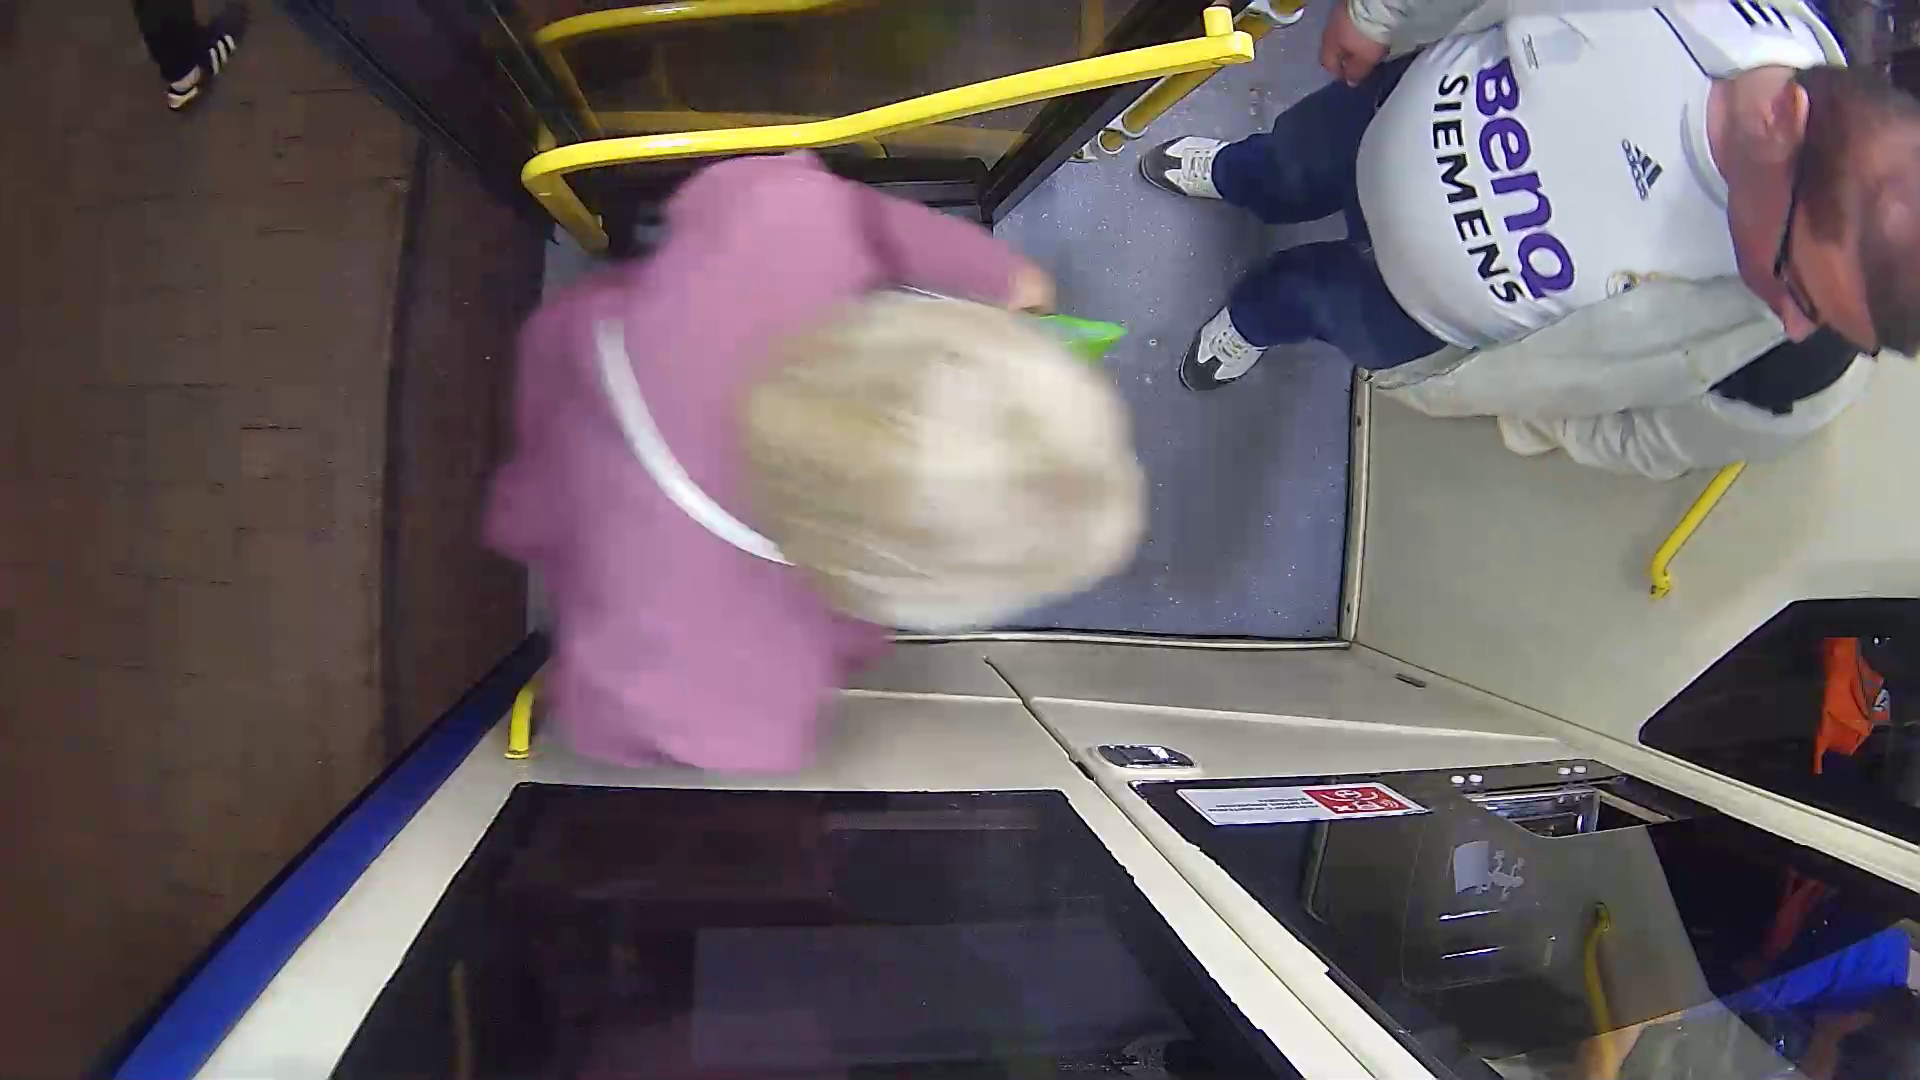person: (463, 147, 1243, 779), (1224, 26, 1910, 487)
